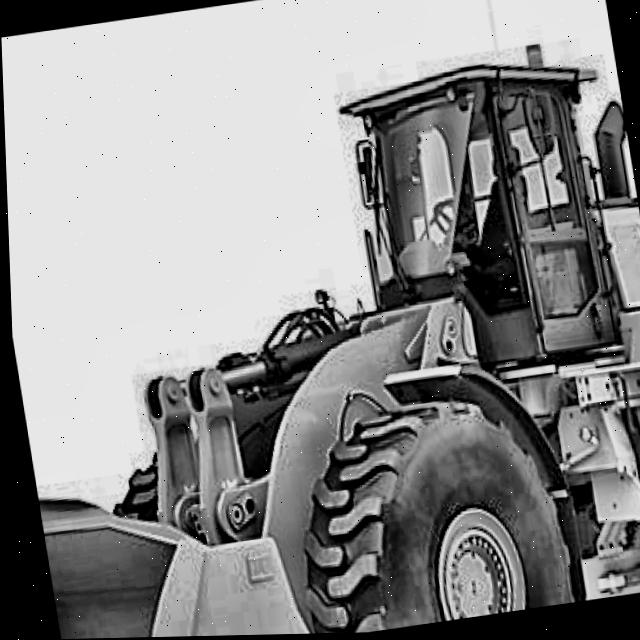buldozerpayloadergrader: (1, 23, 640, 640)
